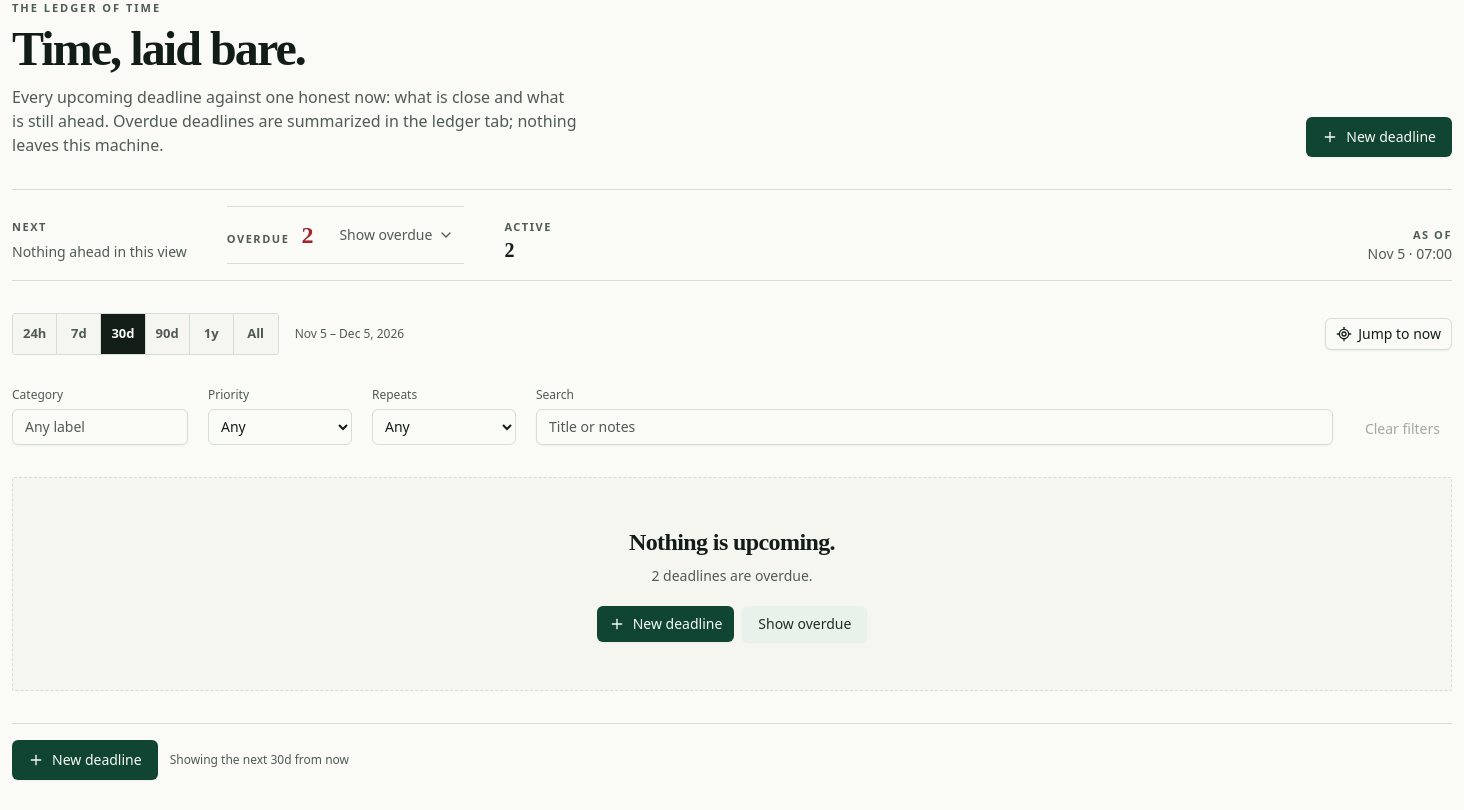
Test case: TimelinePage upcoming focus › shows the all-overdue and filtered no-results states
The width and height of the screenshot is (1464, 810).
Expected: the heading "Nothing is upcoming." is shown, x1=629 y1=528 x2=835 y2=554
Expected: the text "2 deadlines are overdue." is shown, x1=651 y1=566 x2=813 y2=584
Click the button "Show overdue" below "2 deadlines are overdue.".
click(805, 624)  # box x1=742 y1=606 x2=867 y2=642
(page scrolled)
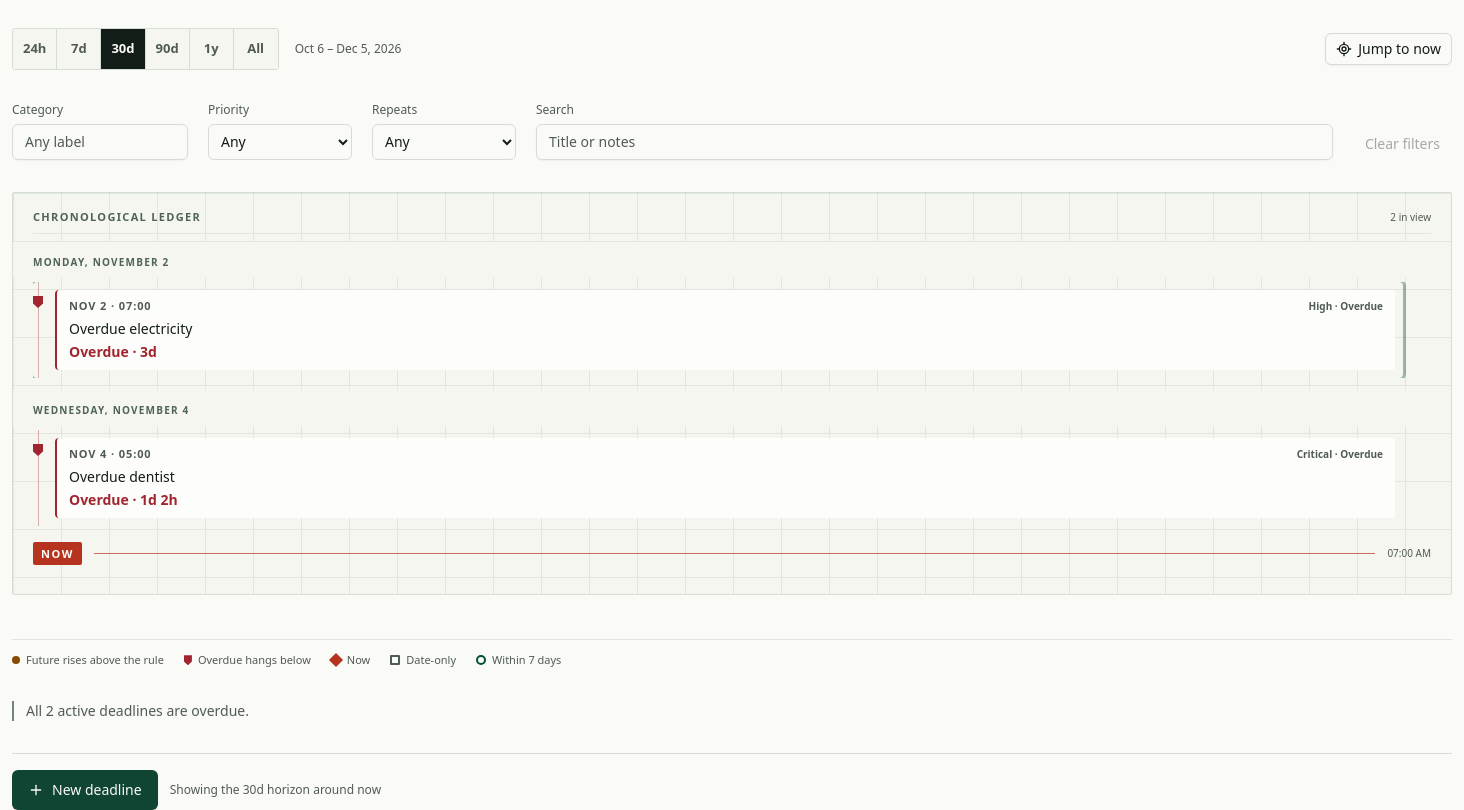
Now the text "All 2 active deadlines are overdue." is shown, box x1=12 y1=700 x2=1452 y2=720
